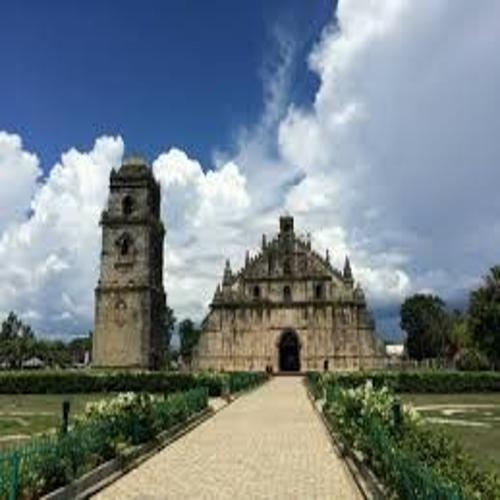Paoay Church: (86, 149, 390, 391)
